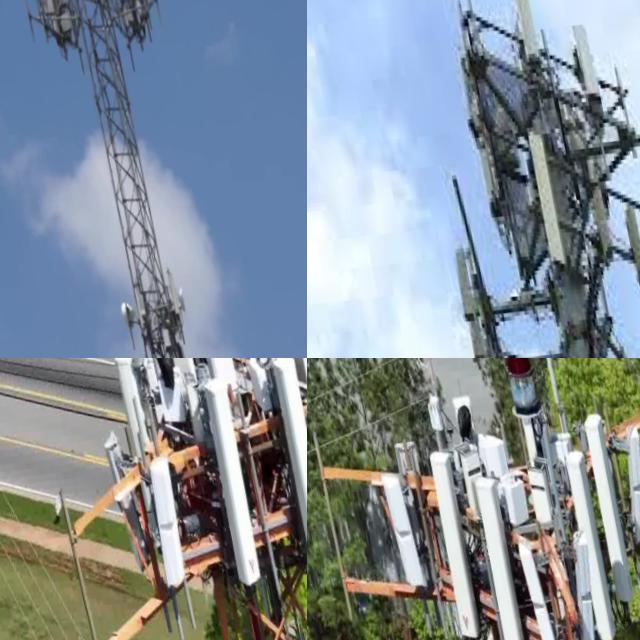GSM Antenna: (196, 366, 274, 588), (418, 431, 493, 640), (557, 432, 627, 638), (577, 393, 640, 605), (467, 460, 540, 640), (264, 358, 307, 567), (516, 112, 574, 262), (140, 444, 197, 596), (96, 422, 155, 566), (378, 454, 435, 593), (518, 531, 569, 640), (107, 358, 159, 459), (567, 13, 607, 95), (450, 237, 483, 321), (584, 171, 617, 249), (504, 0, 544, 57), (118, 358, 171, 401), (618, 191, 640, 283), (165, 262, 186, 315)
Microwave Antenna: (115, 285, 144, 329), (175, 275, 194, 312)
